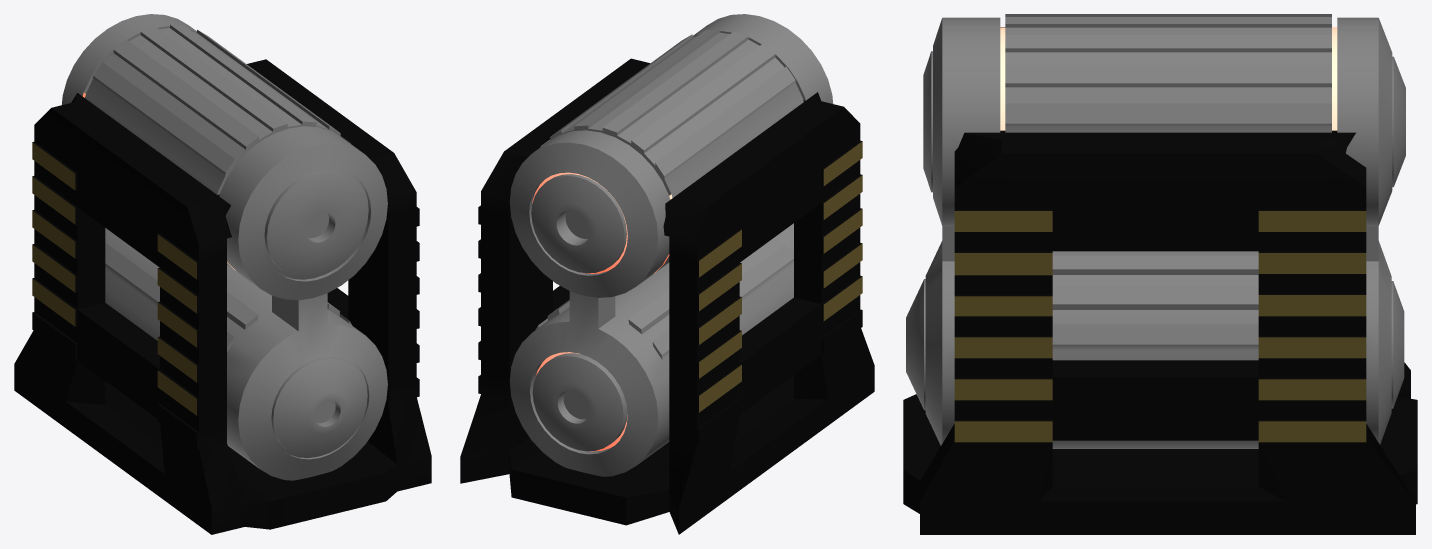
File: container3.fbx
The picture shows the model from 3 angles, left to right: view 1: azimuth 30°, elevation 25°; view 2: azimuth 150°, elevation 25°; view 3: azimuth 270°, elevation 25°; orthographic projection. The views are drawn at different scales.
Parts seen in each view (by area): view 1: Cube, Cylinder.001, Cylinder; view 2: Cube, Cylinder.001, Cylinder; view 3: Cube, Cylinder.001, Cylinder.
Part boxes in pixels (x1,y1,x2,y2): Cube: (14,59,431,534); Cylinder.001: (62,14,387,300); Cylinder: (105,228,387,480); Cube: (460,58,874,534); Cylinder.001: (509,14,833,297); Cylinder: (509,223,793,476); Cube: (903,27,1417,534); Cylinder.001: (923,14,1405,225); Cylinder: (906,226,1404,448).
Bounding box in the file's own units: 347 × 540 × 565.
